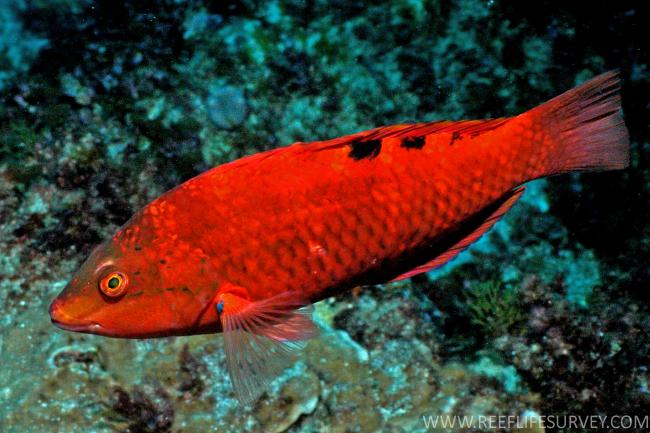fish: (48, 70, 630, 408)
